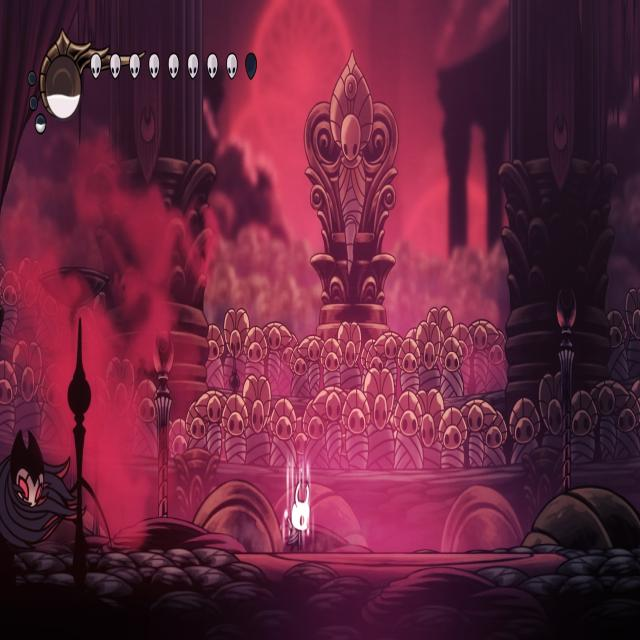Grimm: (0, 423, 117, 552)
Player: (284, 466, 313, 558)
